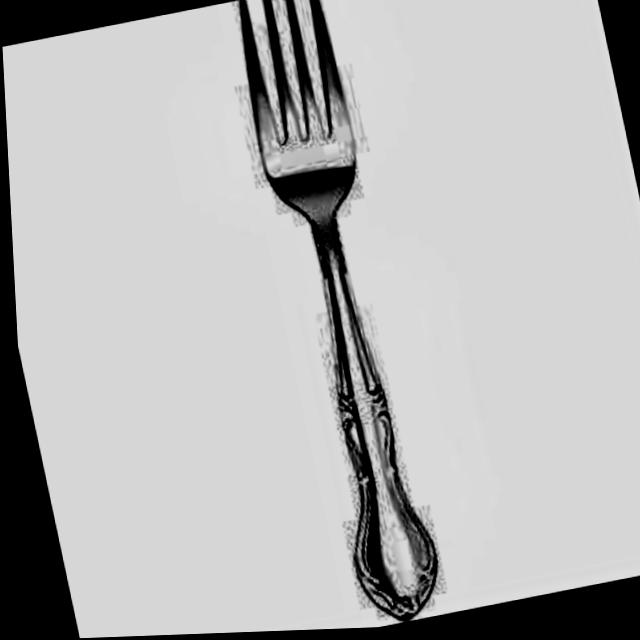Fork: (240, 0, 437, 620)
